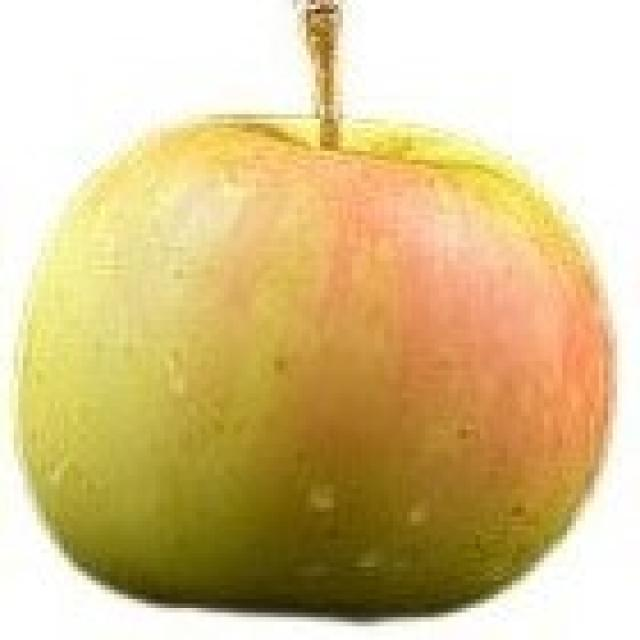75-_ripeness: (28, 112, 618, 618)
